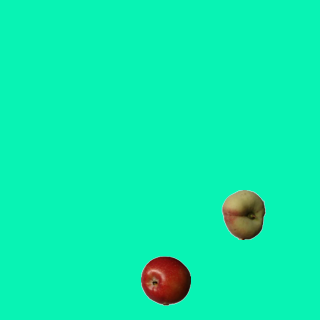Apple Braeburn: (140, 255, 190, 305)
Peach Flat: (218, 189, 268, 239)
